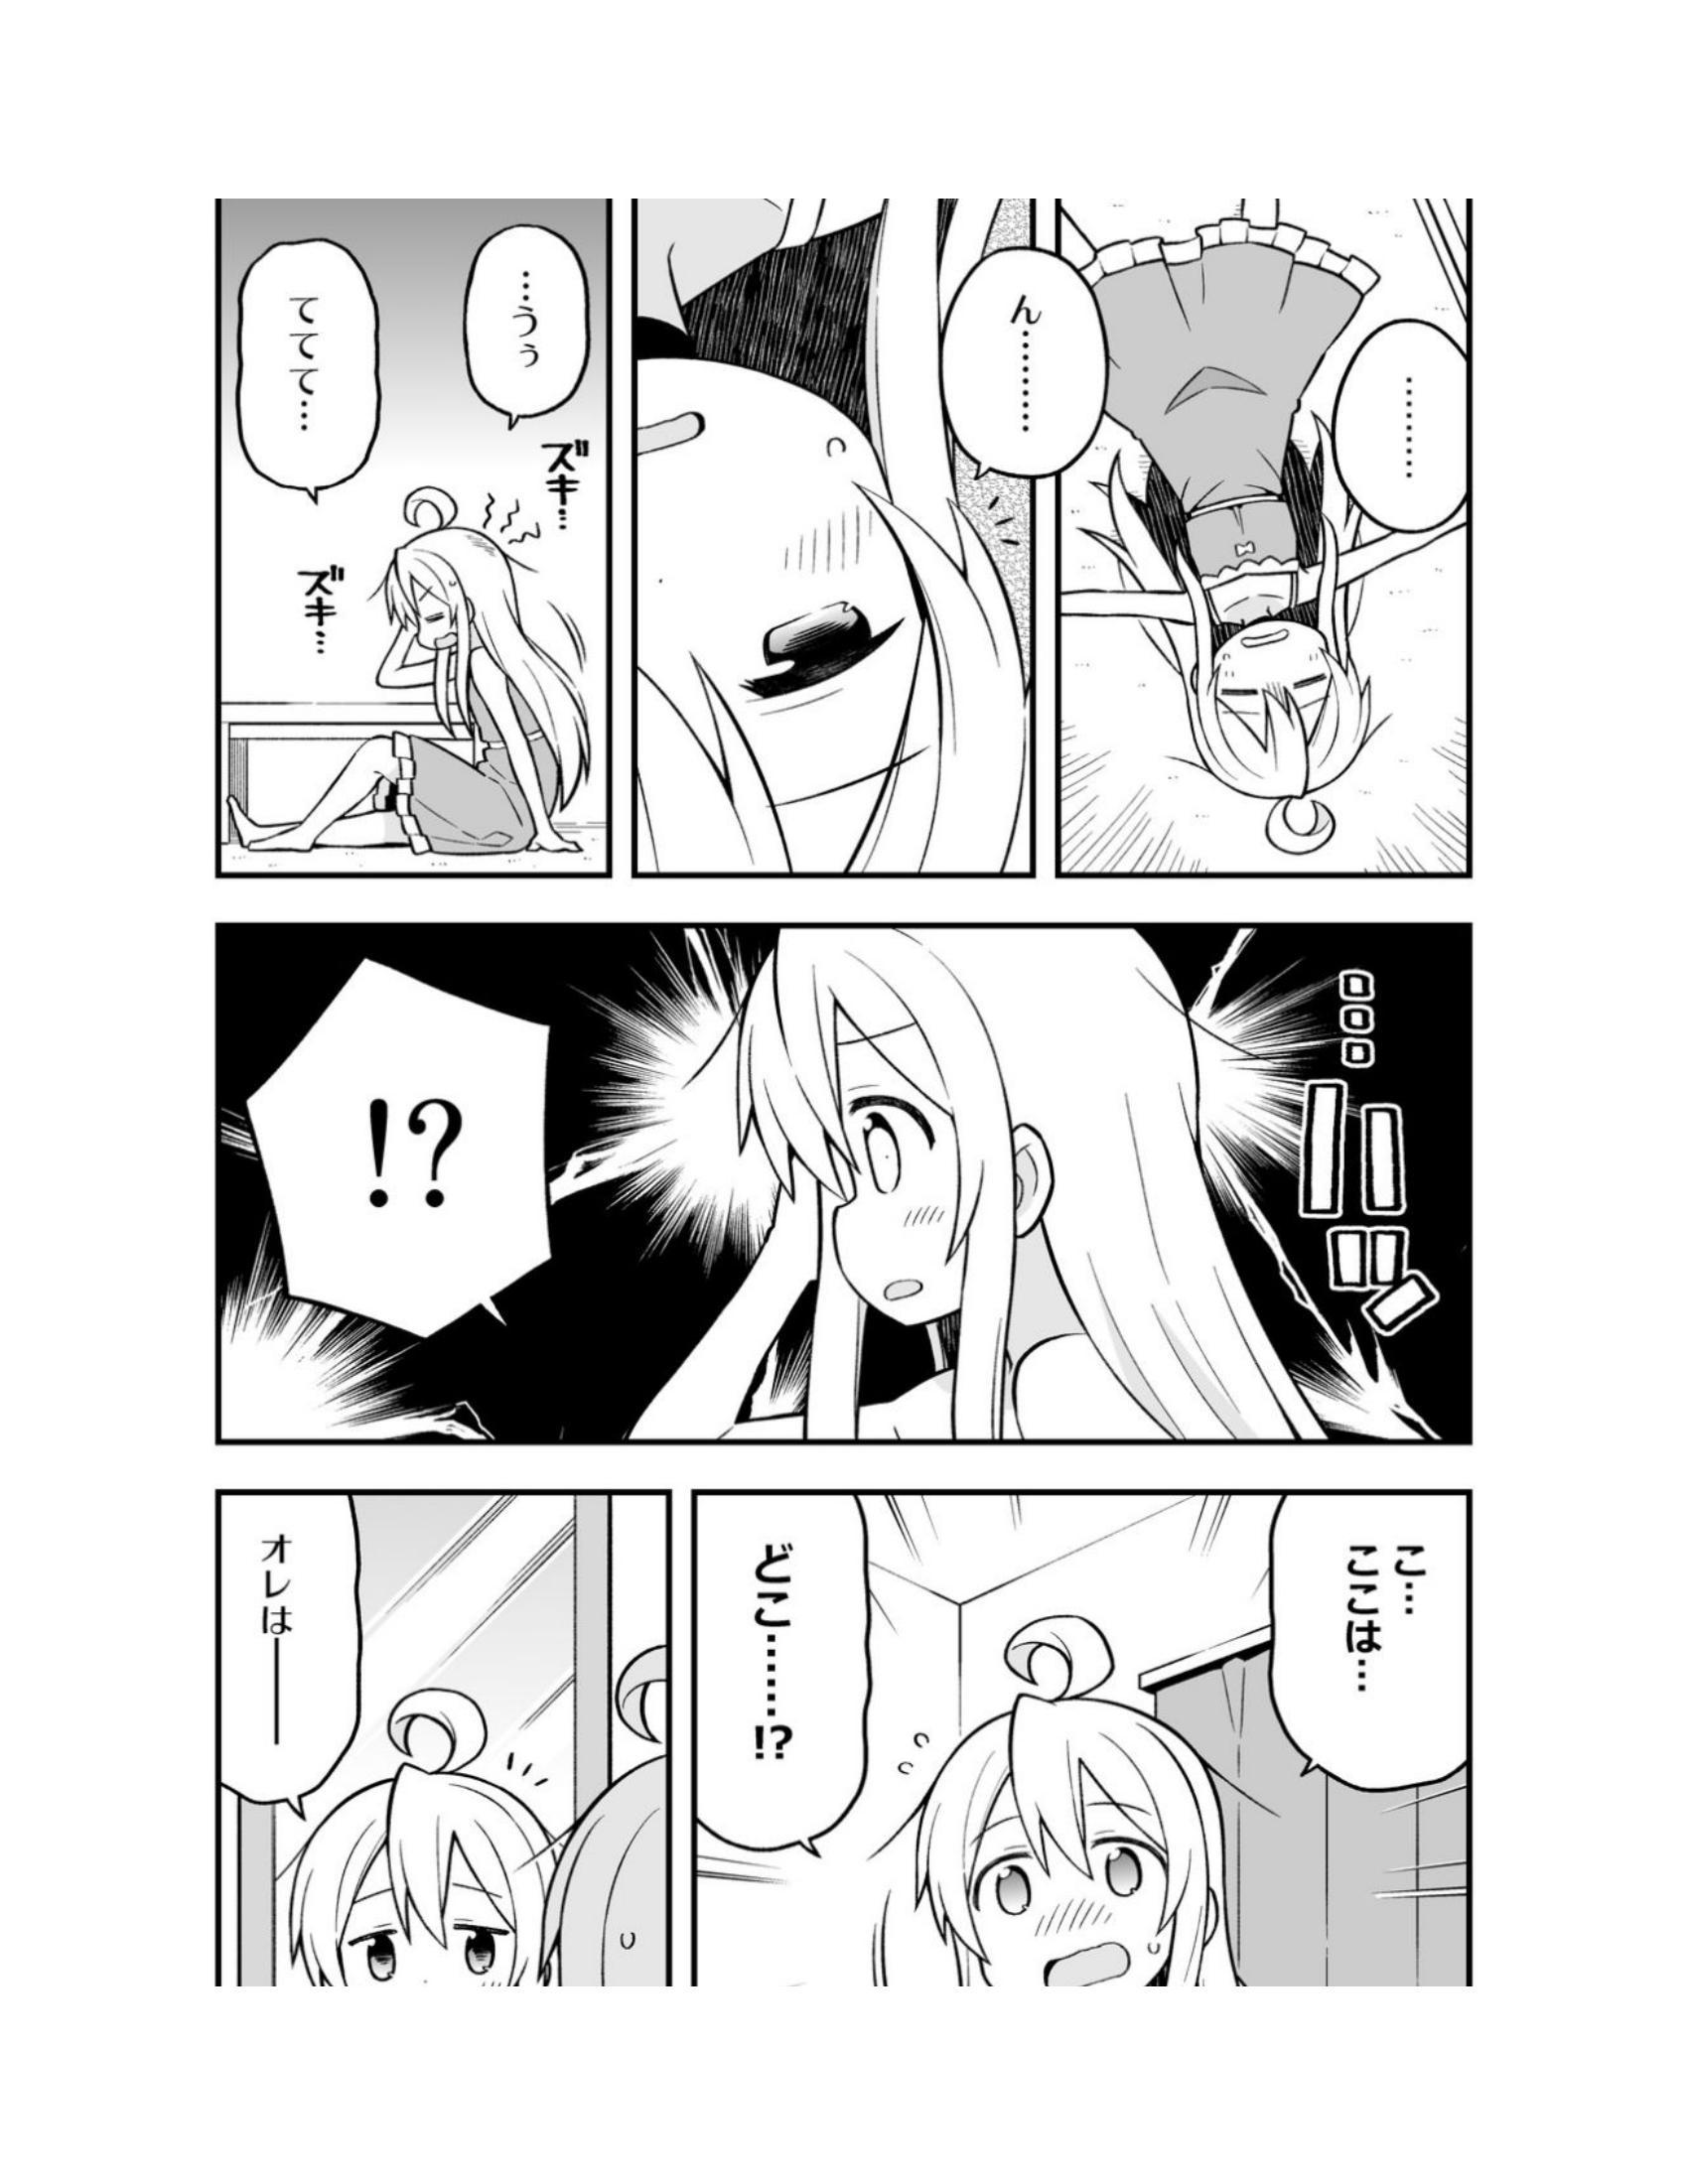a: (684, 1464, 894, 1844), (1264, 1484, 1497, 1794), (211, 1498, 410, 1854), (220, 246, 422, 532), (1294, 296, 1504, 562), (961, 222, 1144, 487), (456, 213, 635, 464)
